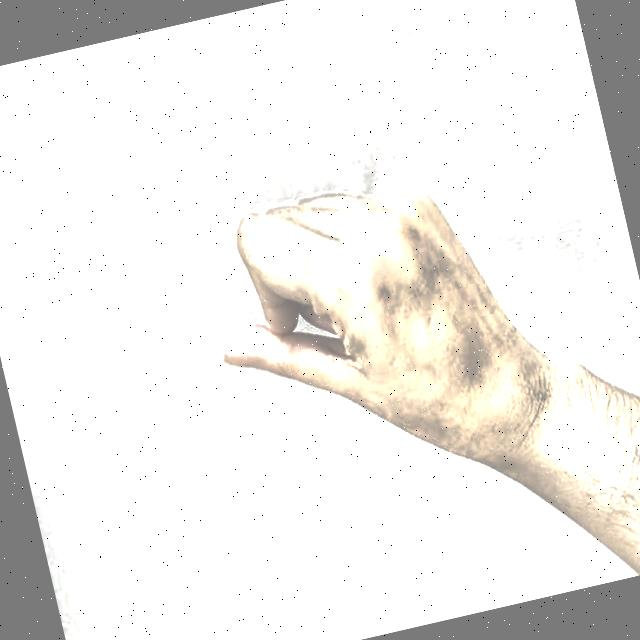Ay: (158, 125, 570, 598)
